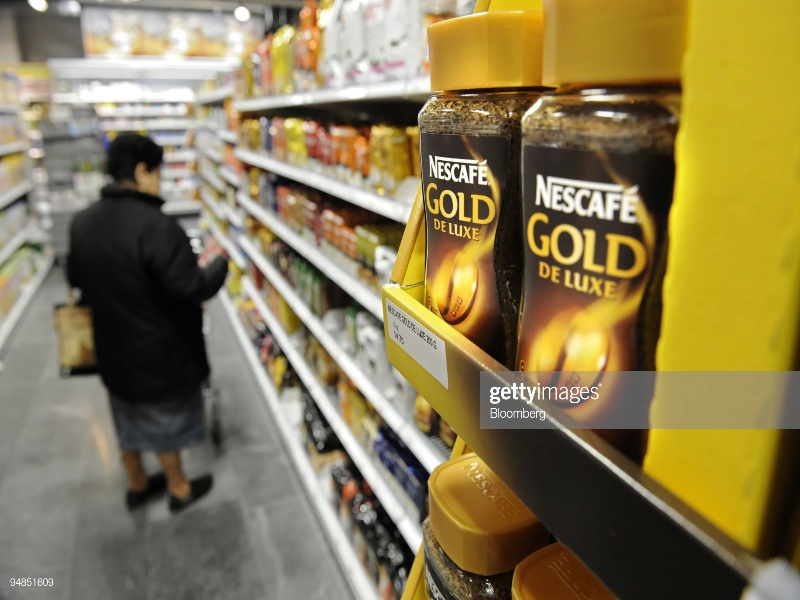nescafe-classic/gold-med: (527, 1, 646, 437), (423, 9, 514, 355)
